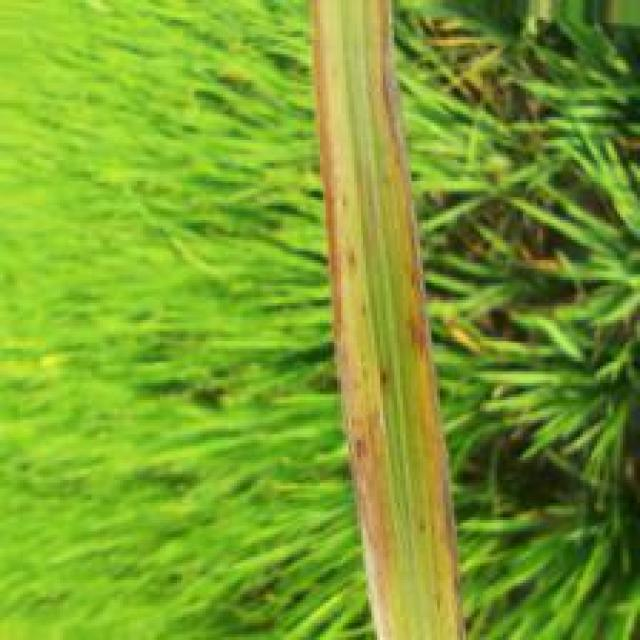Narrow_Brown_Leaf_Spot: (311, 0, 392, 637)
